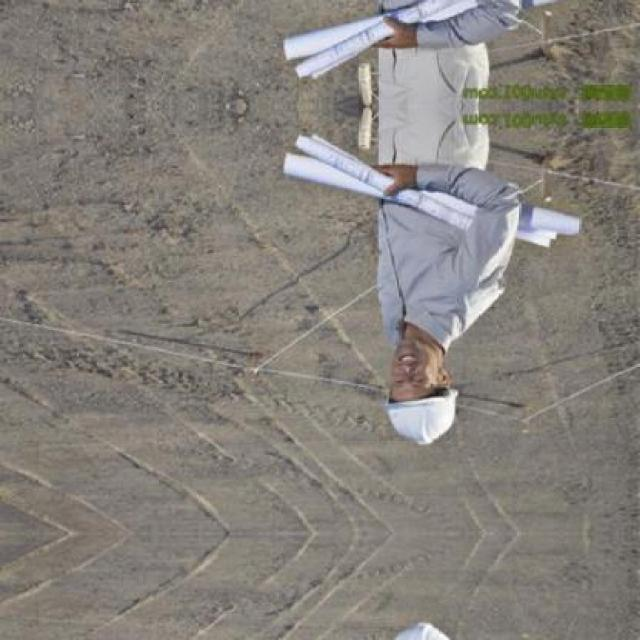safetyhelmet: (384, 355, 469, 449)
